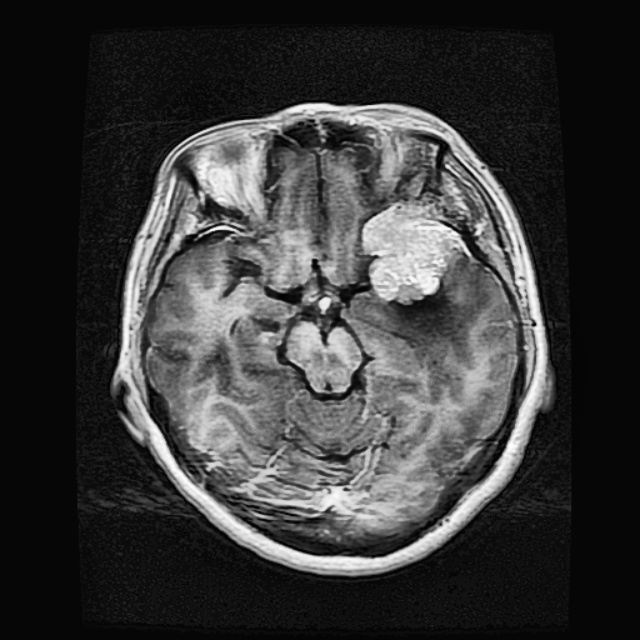Pituitary: (360, 202, 463, 304)
